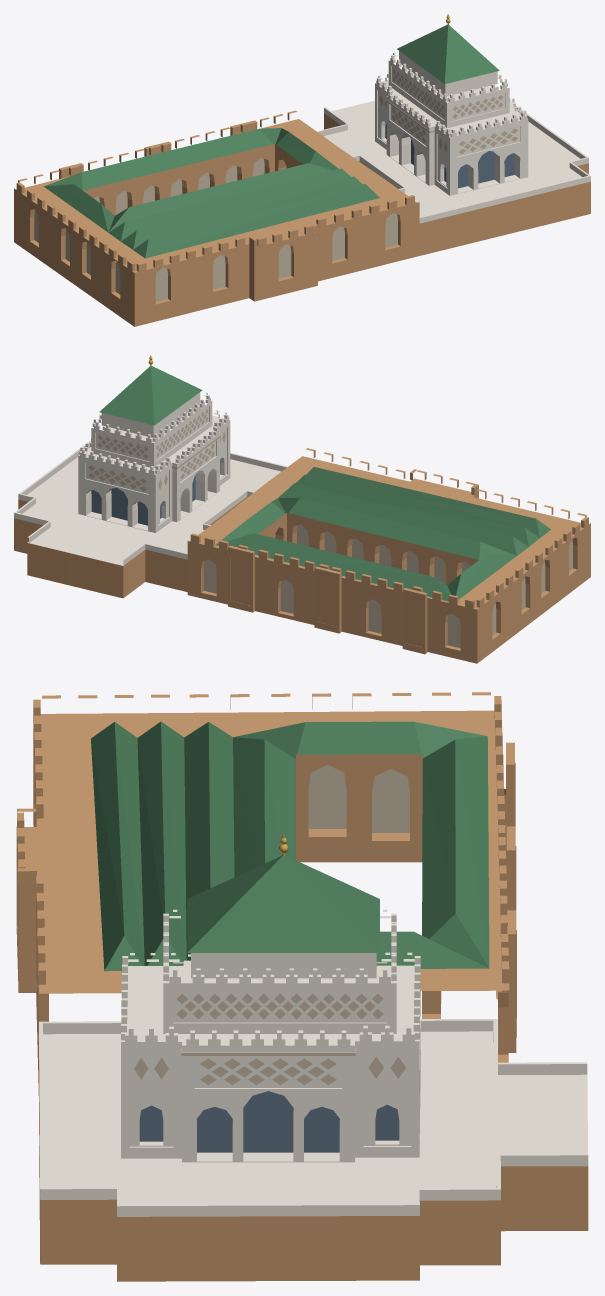
The model's file is rabat-mausoleum-mohammed-v.glb.
The picture shows the model from 3 angles, top to bottom: view 1: azimuth 30°, elevation 25°; view 2: azimuth 150°, elevation 25°; view 3: azimuth 270°, elevation 25°; orthographic projection. The views are drawn at different scales.
Parts seen in each view (by area): view 1: Mausoleum of Mohammed V; view 2: Mausoleum of Mohammed V; view 3: Mausoleum of Mohammed V.
Boxes of the visible parts, left/top/right/bottom form: Mausoleum of Mohammed V: left=14, top=14, right=590, bottom=326; Mausoleum of Mohammed V: left=14, top=355, right=590, bottom=663; Mausoleum of Mohammed V: left=16, top=692, right=588, bottom=1281.
Size of the model in its own units: 92.95 by 32.5 by 48.02.
